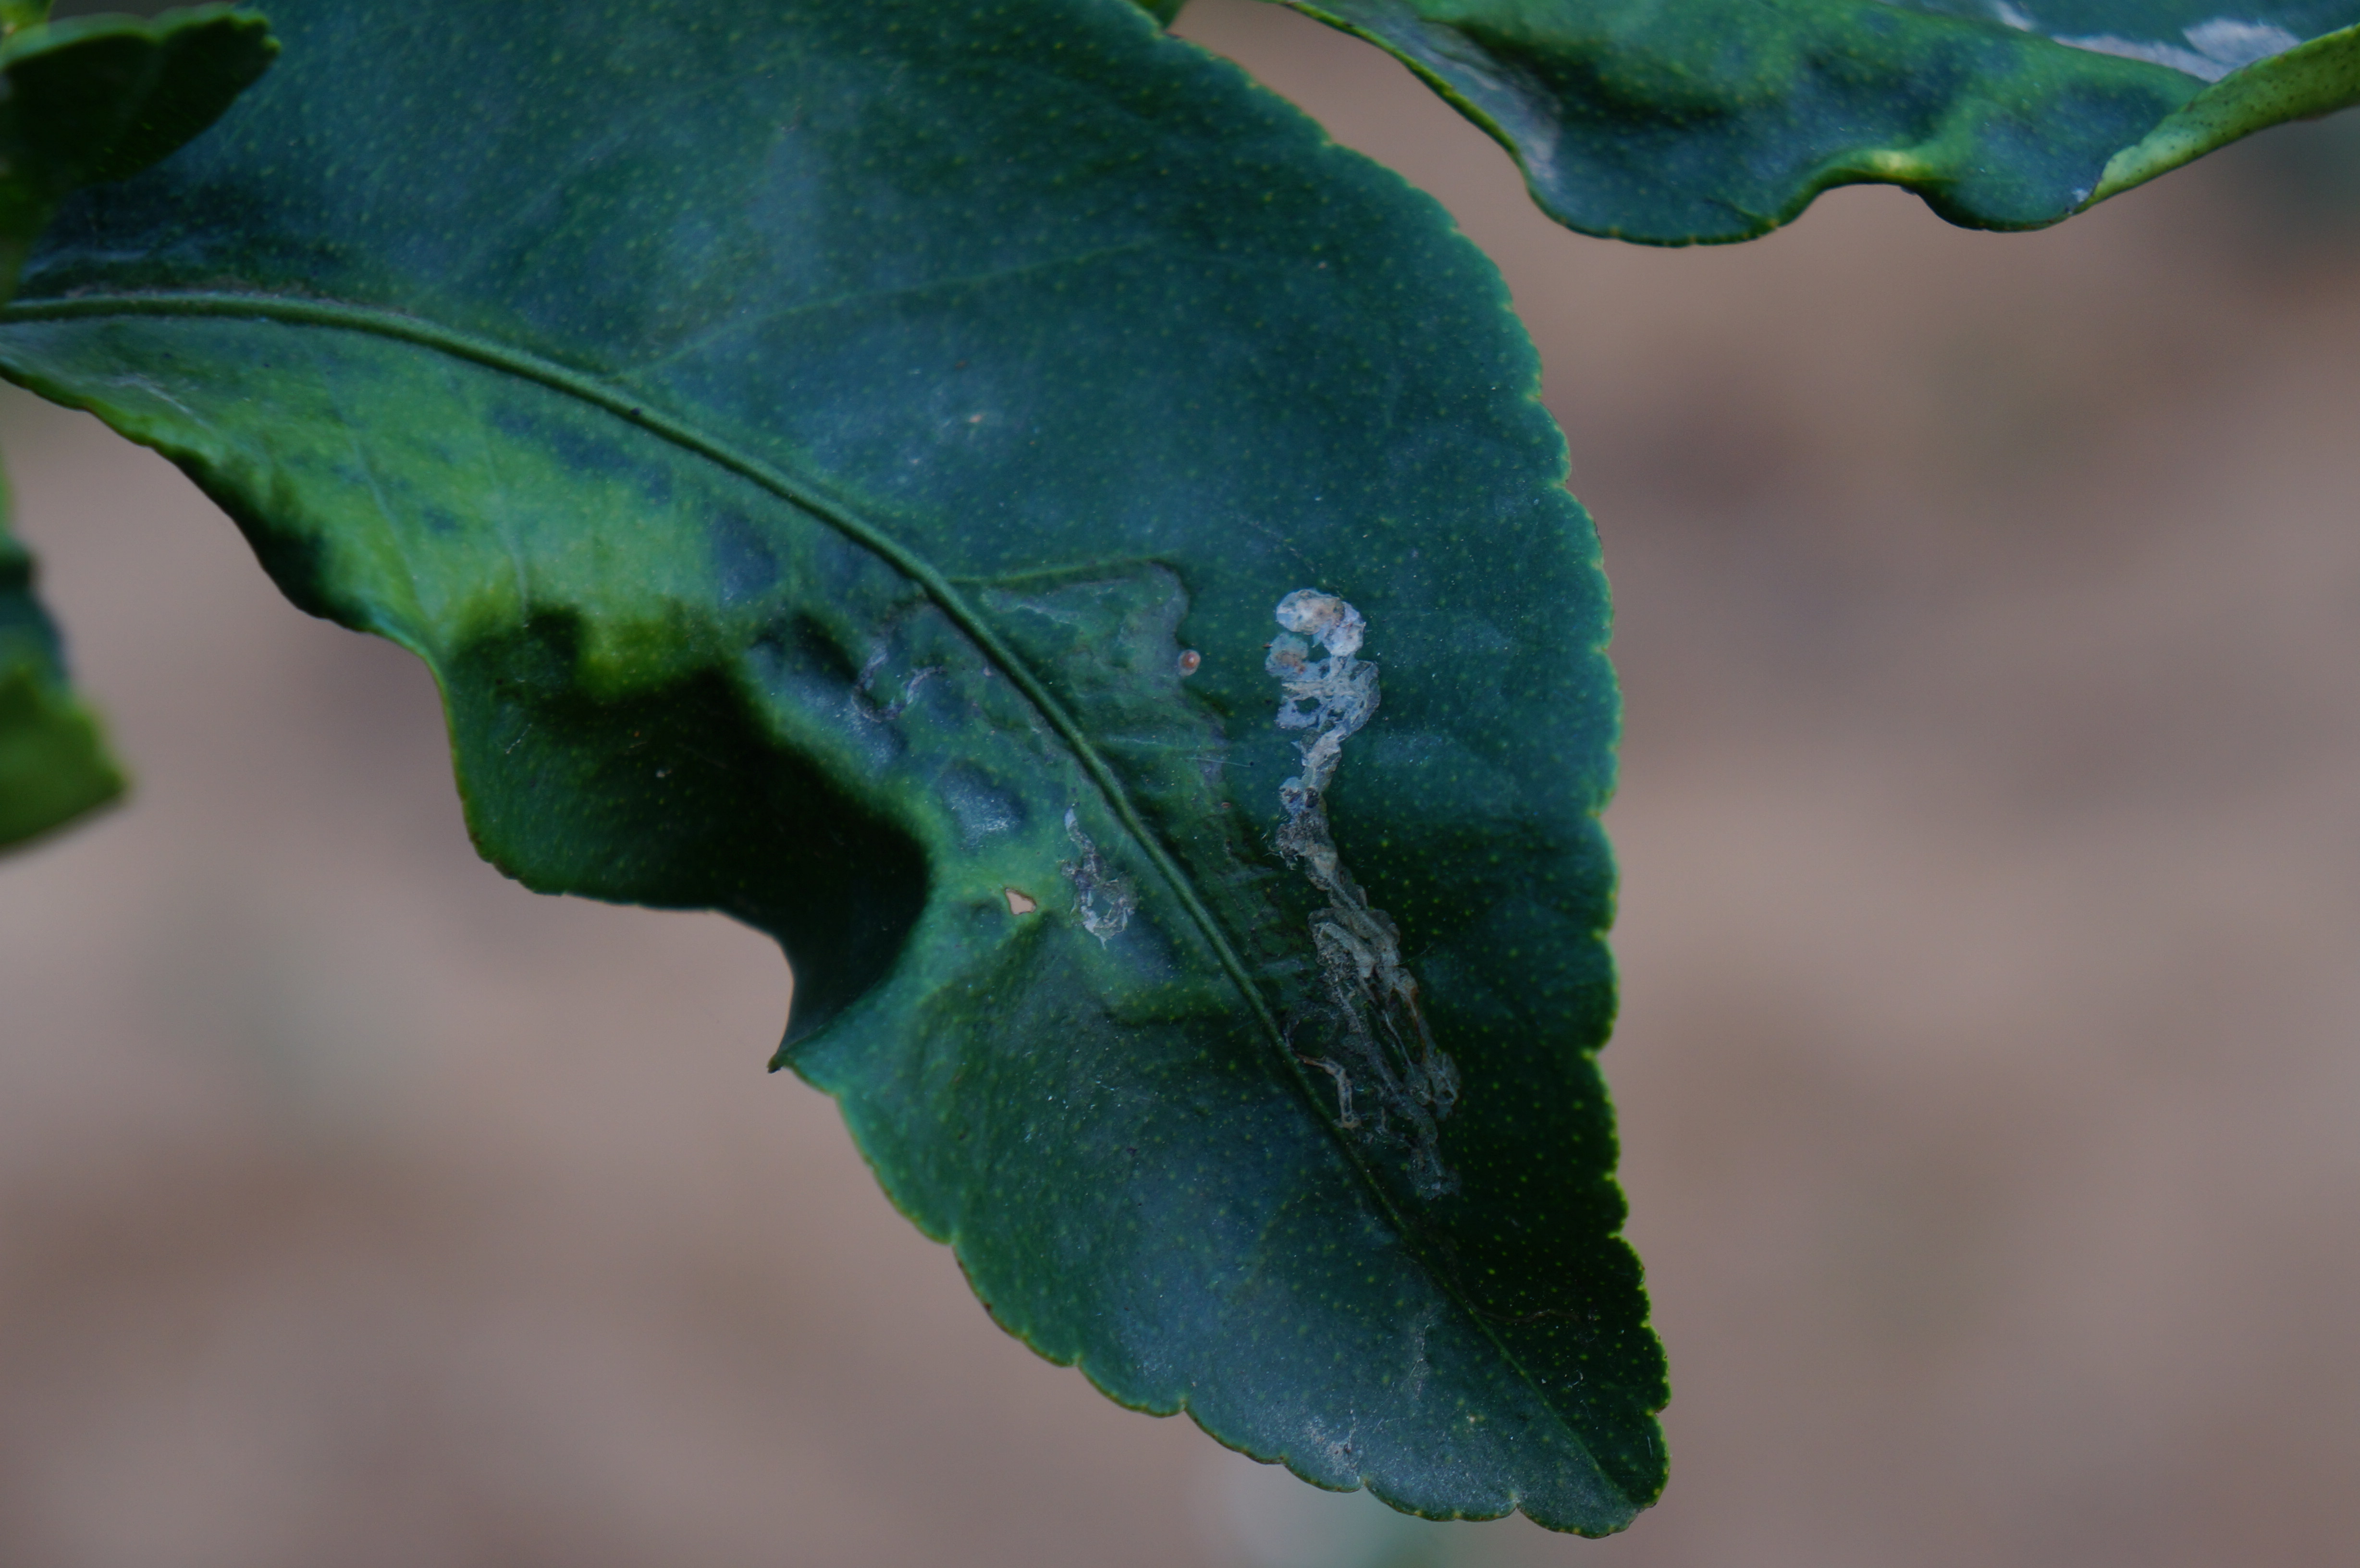damage: (1158, 548, 1508, 1207)
